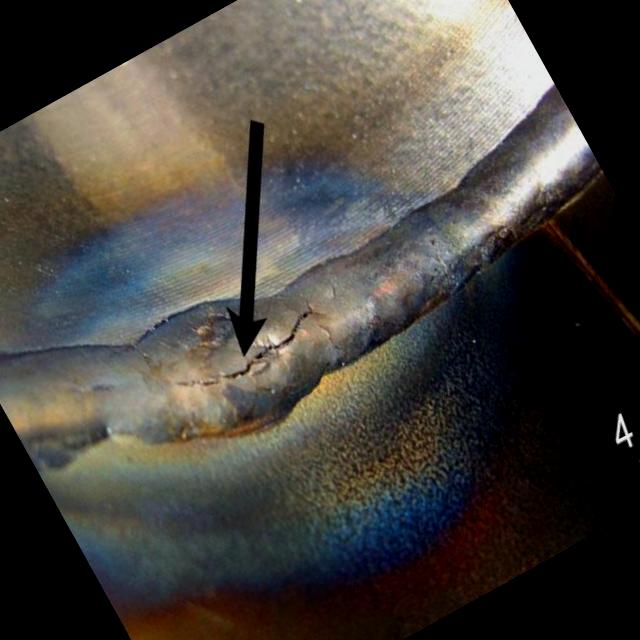defect: (172, 290, 319, 392)
